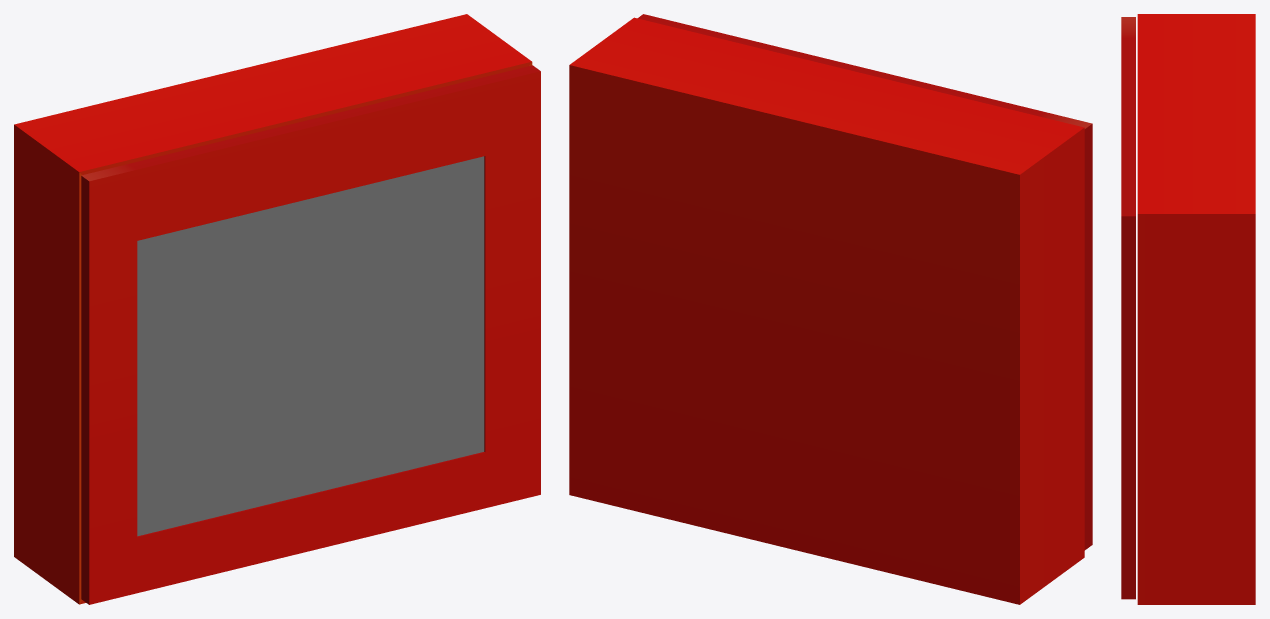
File: Manguera_incendios.fbx
3 renders of one model, left to right at view 1: azimuth 30°, elevation 25°; view 2: azimuth 150°, elevation 25°; view 3: azimuth 270°, elevation 25°, orthographic. The views are drawn at different scales.
Parts seen in each view (by area): view 1: Box017, Box016, Box014; view 2: Box014, Box016; view 3: Box014, Box016.
Part boxes in pixels (x1=…): Box017: x1=137, y1=156, x2=484, y2=536; Box016: x1=81, y1=65, x2=540, y2=604; Box014: x1=14, y1=14, x2=532, y2=604; Box014: x1=569, y1=17, x2=1084, y2=604; Box016: x1=637, y1=14, x2=1092, y2=550; Box014: x1=1137, y1=14, x2=1255, y2=604; Box016: x1=1121, y1=17, x2=1135, y2=599.
Bounding box in the file's own units: 33.11 × 30.21 × 9.38.
